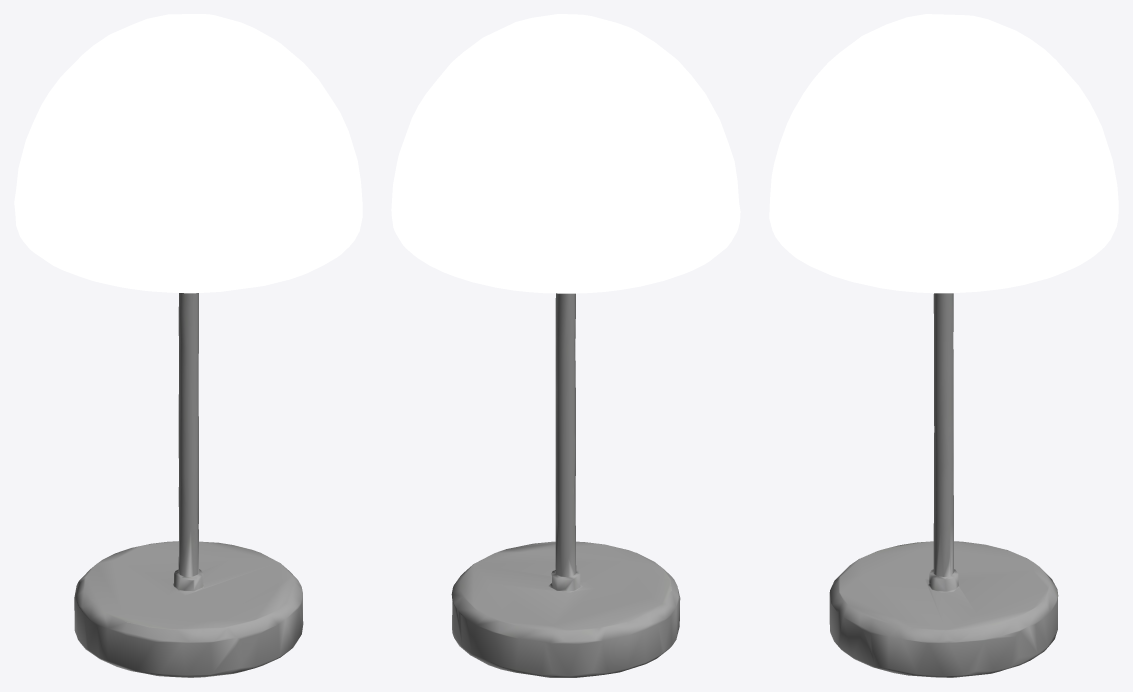
File: bauhaus-table-lamp.glb
3 renders of one model, left to right at view 1: azimuth 30°, elevation 25°; view 2: azimuth 150°, elevation 25°; view 3: azimuth 270°, elevation 25°, orthographic.
Visible parts, largest first — view 1: world; view 2: world; view 3: world.
Boxes of the visible parts, x1,y1,x2,y2 form: world: (14, 14, 362, 677); world: (391, 14, 740, 677); world: (769, 14, 1118, 677).
Size of the model in its own units: 0.22 by 0.42 by 0.22.
2 materials, 1 textured.
